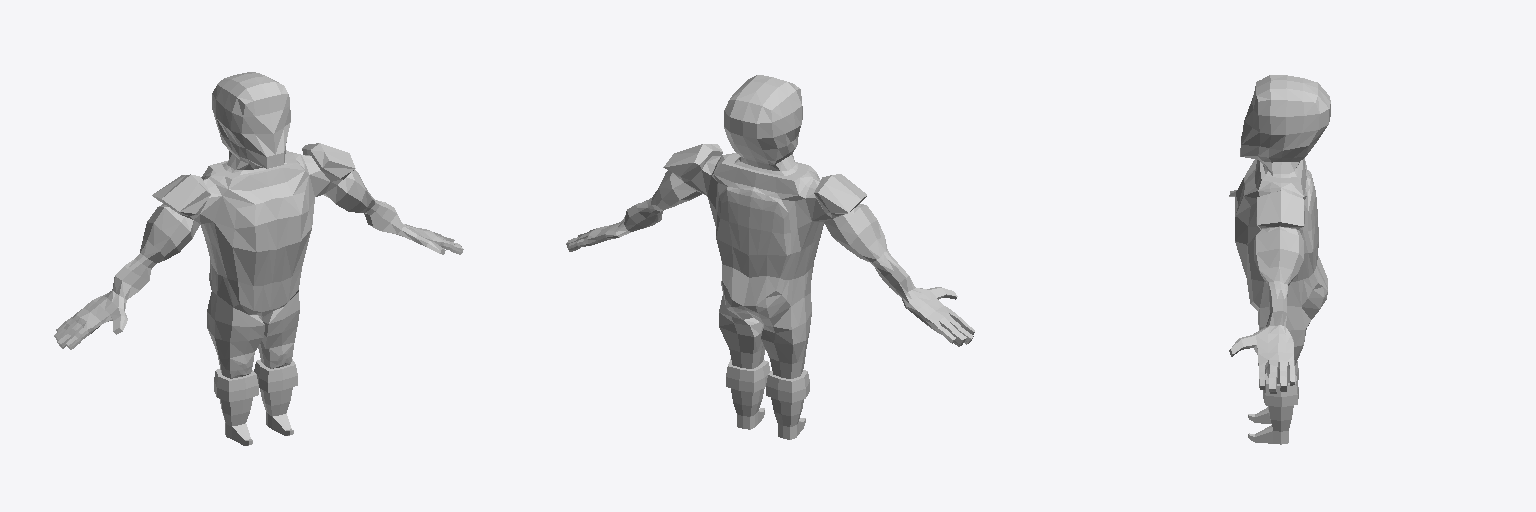
The model's file is orgeBaseMesh.obj.
3 views of the same model, side by side, from view 1: azimuth 30°, elevation 25°; view 2: azimuth 150°, elevation 25°; view 3: azimuth 270°, elevation 25° (orthographic).
Parts seen in each view (by area): view 1: pCube5; view 2: pCube5; view 3: pCube5.
Part boxes in pixels (left/top/right/bottom): pCube5: left=54, top=72, right=463, bottom=445; pCube5: left=566, top=75, right=974, bottom=439; pCube5: left=1229, top=75, right=1330, bottom=444.
Size of the model in its own units: 122 by 102 by 26.8.